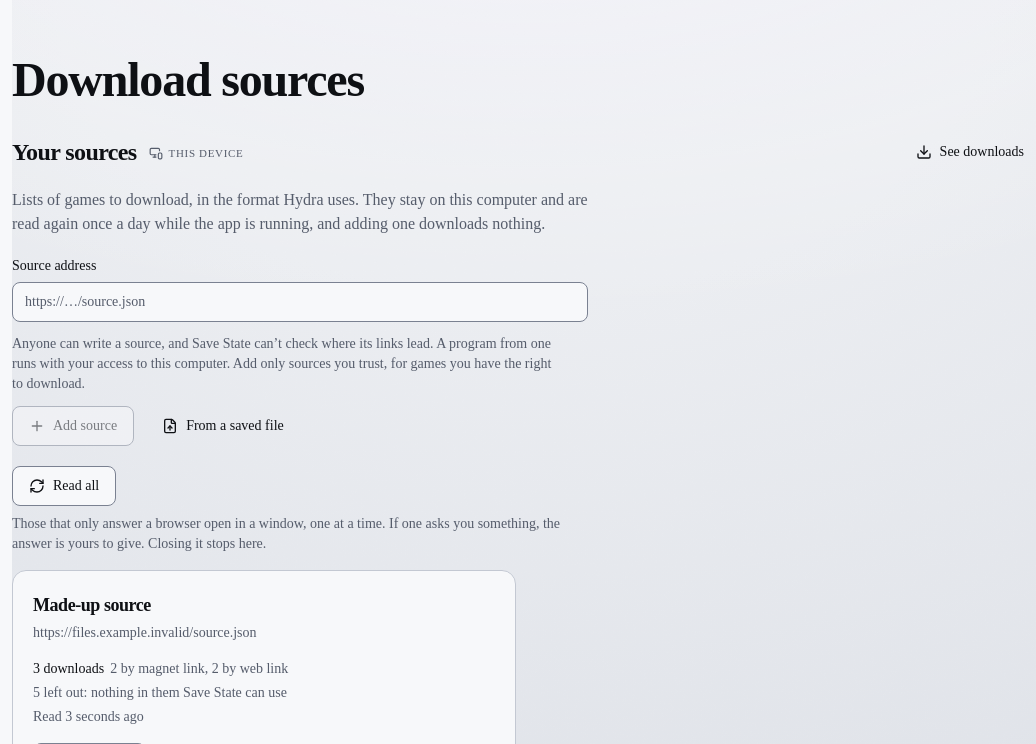
Test: download sources › says how it ended: {"read":2,"failed":0,"stopped":true}
Click the button "Read all" at (64, 486), box [12,466,116,506]
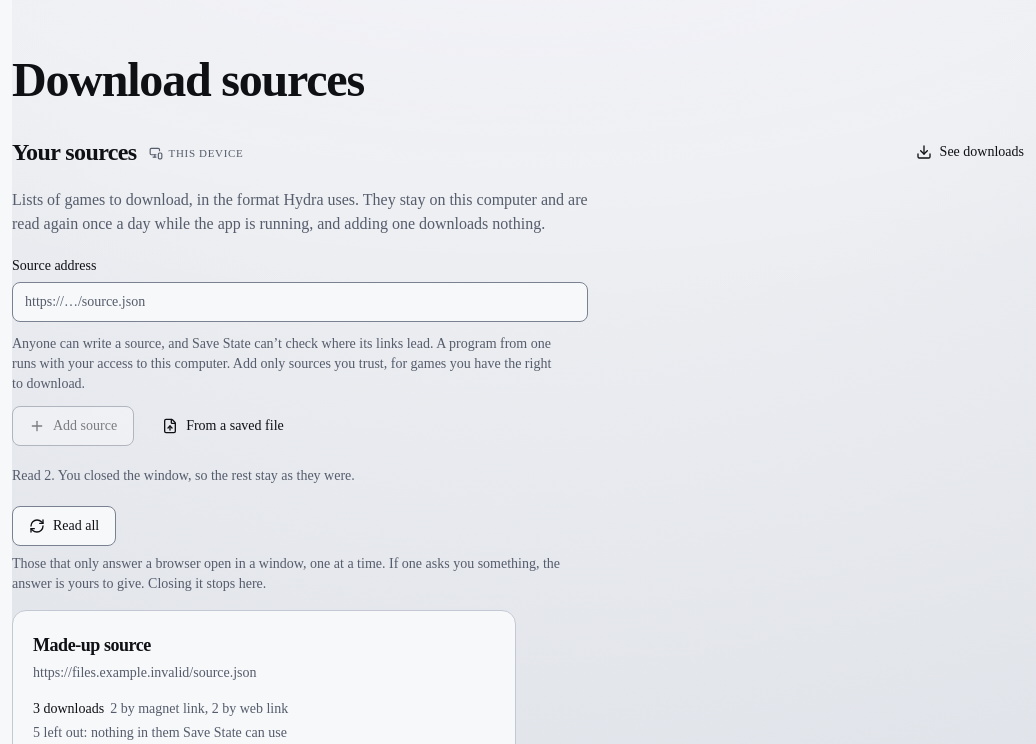
Expected: the message shows "Read 2. You closed the window, so the rest stay", [12,468,355,483]
